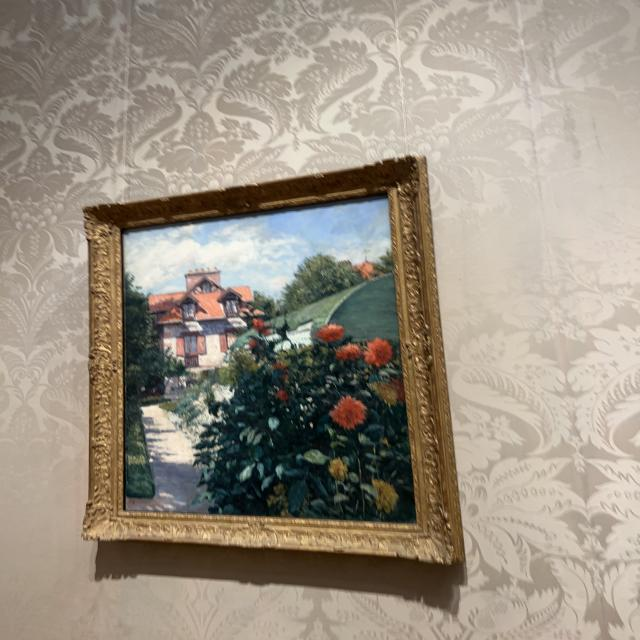summer: (129, 202, 411, 519)
